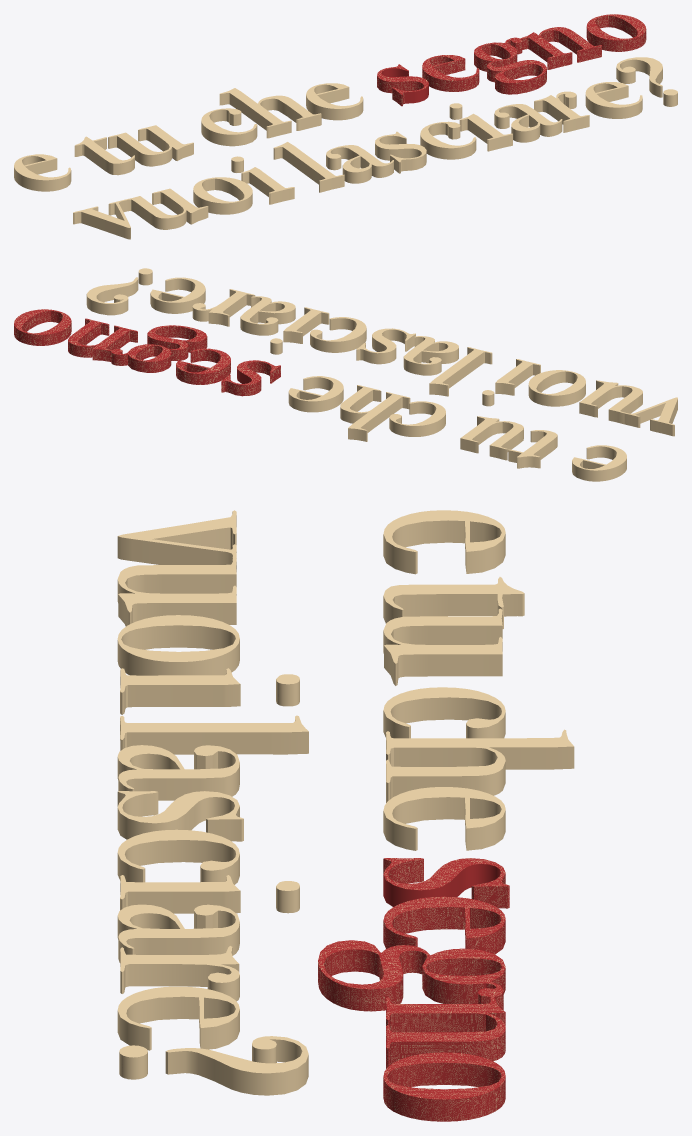
The model's file is scritta.obj.
3 views of the same model, one above another, from view 1: azimuth 30°, elevation 25°; view 2: azimuth 150°, elevation 25°; view 3: azimuth 270°, elevation 25° (orthographic). The views are drawn at different scales.
Parts seen in each view (by area): view 1: Mesh2 Group1 Model, Mesh21 Group2 Model, Mesh16 Group2 Model, Mesh17 Group2 Model, Mesh4 Group1 Model, Mesh11 Group2 Model, Mesh15 Group2 Model, Mesh22 Group2 Model, Mesh19 Group2 Model, Mesh7 Group2 Model, Mesh5 Group2 Model, Mesh3 Group1 Model (+10 smaller); view 2: Mesh2 Group1 Model, Mesh21 Group2 Model, Mesh16 Group2 Model, Mesh17 Group2 Model, Mesh4 Group1 Model, Mesh22 Group2 Model, Mesh11 Group2 Model, Mesh15 Group2 Model, Mesh5 Group2 Model, Mesh19 Group2 Model, Mesh3 Group1 Model, Mesh7 Group2 Model (+10 smaller); view 3: Mesh2 Group1 Model, Mesh21 Group2 Model, Mesh16 Group2 Model, Mesh17 Group2 Model, Mesh4 Group1 Model, Mesh22 Group2 Model, Mesh8 Group2 Model, Mesh5 Group2 Model, Mesh19 Group2 Model, Mesh11 Group2 Model, Mesh7 Group2 Model, Mesh25 Group2 Model (+11 smaller).
Boxes of the visible parts, x1,y1,x2,y2 form: Mesh2 Group1 Model: (474, 27, 601, 94); Mesh21 Group2 Model: (73, 188, 208, 239); Mesh16 Group2 Model: (219, 88, 321, 138); Mesh17 Group2 Model: (108, 125, 193, 166); Mesh4 Group1 Model: (586, 14, 646, 51); Mesh11 Group2 Model: (494, 104, 562, 142); Mesh15 Group2 Model: (326, 145, 393, 183); Mesh22 Group2 Model: (193, 177, 252, 214); Mesh19 Group2 Model: (14, 154, 71, 191); Mesh7 Group2 Model: (585, 82, 642, 118); Mesh5 Group2 Model: (306, 83, 363, 120); Mesh3 Group1 Model: (422, 55, 479, 91); Mesh2 Group1 Model: (68, 318, 207, 372); Mesh21 Group2 Model: (579, 380, 677, 436); Mesh16 Group2 Model: (340, 385, 410, 441); Mesh17 Group2 Model: (460, 416, 523, 460); Mesh4 Group1 Model: (14, 309, 71, 345); Mesh22 Group2 Model: (528, 370, 585, 406); Mesh11 Group2 Model: (240, 296, 295, 335); Mesh15 Group2 Model: (403, 336, 458, 375); Mesh5 Group2 Model: (288, 376, 343, 412); Mesh19 Group2 Model: (572, 445, 626, 481); Mesh3 Group1 Model: (176, 348, 230, 384); Mesh7 Group2 Model: (150, 277, 205, 313); Mesh2 Group1 Model: (318, 940, 505, 1068); Mesh21 Group2 Model: (117, 510, 236, 626); Mesh16 Group2 Model: (386, 729, 574, 802); Mesh17 Group2 Model: (383, 608, 502, 685); Mesh4 Group1 Model: (383, 1052, 505, 1121); Mesh22 Group2 Model: (117, 615, 239, 675); Mesh8 Group2 Model: (165, 1036, 308, 1095); Mesh5 Group2 Model: (383, 787, 505, 850); Mesh19 Group2 Model: (383, 510, 505, 574); Mesh11 Group2 Model: (117, 904, 239, 962); Mesh7 Group2 Model: (117, 986, 239, 1050); Mesh25 Group2 Model: (120, 715, 308, 754).
Size of the model in its own units: 142 by 2.5 by 46.62.
